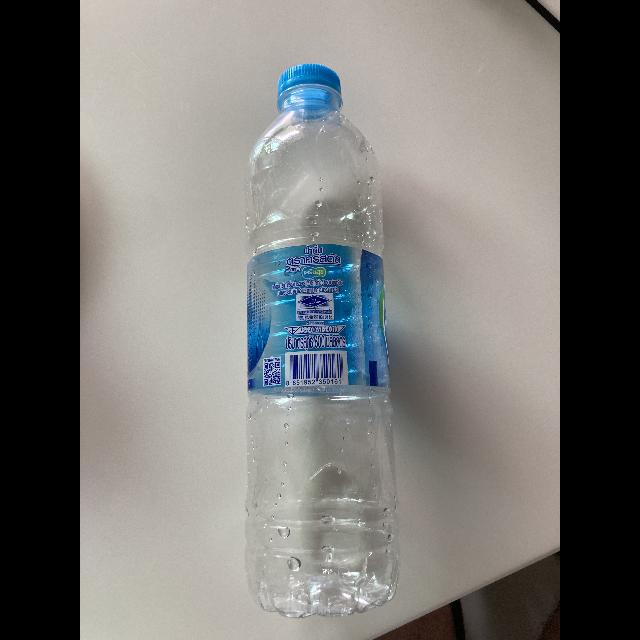plastic_bottle: (238, 60, 402, 616)
plastic_bottle_cap: (274, 62, 344, 122)
